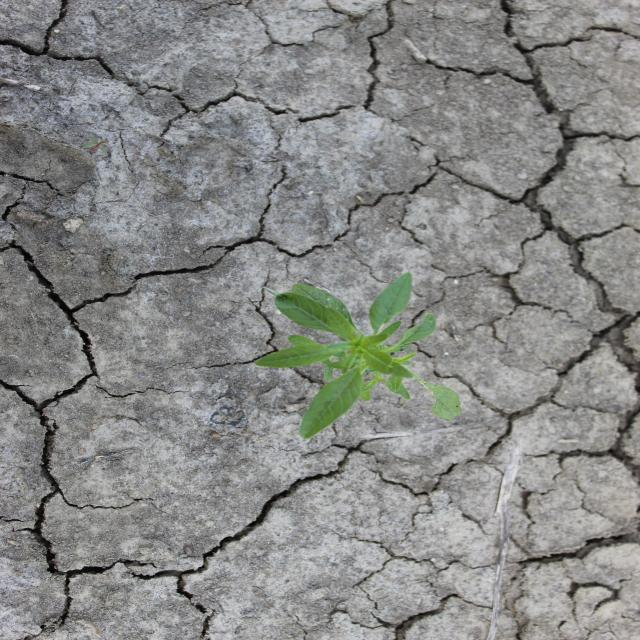Waterhemp: (253, 271, 465, 440)
